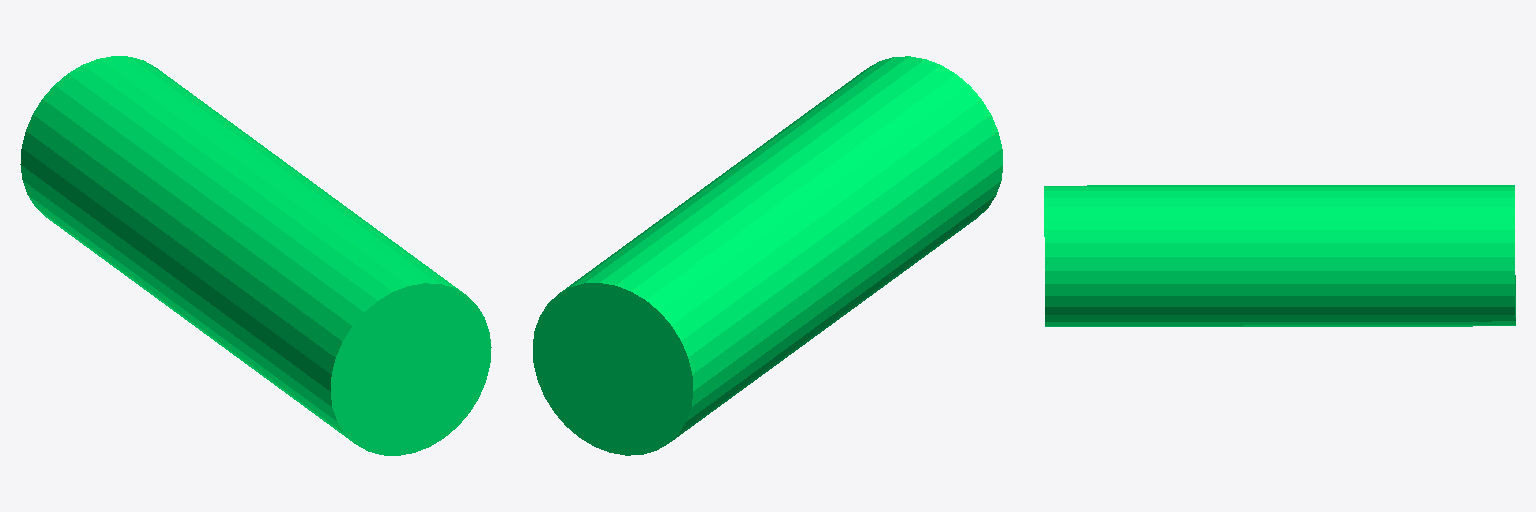
The robot description file, URDF, robot "ur5_with_torch":
<?xml version="1.0" ?>

<robot name="ur5_with_torch" xmlns:xacro="http://ros.org/wiki/xacro">

  <link name="base_link">
    <visual>
      <geometry>
        <mesh filename="../meshes/visual/base.obj"/>
      </geometry>
      <material name="Black">
        <color rgba="0.0 0.0 0 1.0"/>
      </material>
    </visual> 
    <collision>
      <geometry>
        <mesh filename="../meshes/collision/base.stl"/>
      </geometry>
    </collision>
    <inertial>
      <mass value="0.0"/>
      <origin rpy="0 0 0" xyz="0.0 0.0 0.0"/>
      <inertia ixx="0.00443333156" ixy="0.0" ixz="0.0" iyy="0.00443333156" iyz="0.0" izz="0.0072"/>
    </inertial>
  </link>

  <joint name="shoulder_pan_joint" type="revolute">
    <parent link="base_link"/>
    <child link="shoulder_link"/>
    <origin rpy="0.0 0.0 3.14" xyz="0.0 0.0 0.089159"/>
    <axis xyz="0 0 1"/>
    <limit effort="300.0" lower="-6.28318530718" upper="6.28318530718" velocity="10"/>
    <dynamics damping="0.5" friction="0.0"/>
  </joint>
  <link name="shoulder_link">
    <visual>
      <geometry>
        <mesh filename="../meshes/visual/shoulder.obj"/>
      </geometry>
      <material name="Snow">
        <color rgba="1.0 0.98039 0.98039 1.0"/>
      </material>
    </visual>
    <collision>
      <geometry>
        <mesh filename="../meshes/collision/shoulder.stl"/>
      </geometry>
    </collision>
    <inertial>
      <mass value="3.7"/>
      <origin rpy="0 0 0" xyz="0.0 0.0 0.5"/>
      <inertia ixx="0.010267495893" ixy="0.0" ixz="0.0" iyy="0.010267495893" iyz="0.0" izz="0.00666"/>
    </inertial>
  </link>
  <joint name="shoulder_lift_joint" type="revolute">
    <parent link="shoulder_link"/>
    <child link="upper_arm_link"/>
    <origin rpy="0.0 1.6 0.0" xyz="0.0 0.13585 0.0"/>
    <axis xyz="0 1 0"/>
    <limit effort="300.0" lower="-6.28318530718" upper="6.28318530718" velocity="10"/>
    <dynamics damping="0.5" friction="0.0"/>
  </joint>
  <link name="upper_arm_link">
    <visual>
      <geometry>
        <mesh filename="../meshes/visual/upperarm.obj"/>
      </geometry>
      <material name="Black">
        <color rgba="0.0 0.0 0 1.0"/>
      </material>
    </visual>
    <collision>
      <geometry>
        <mesh filename="../meshes/collision/upperarm.stl"/>
      </geometry>
    </collision>
    <inertial>
      <mass value="8.393"/>
      <origin rpy="0 0 0" xyz="0.0 0.0 0.28"/>
      <inertia ixx="0.22689067591" ixy="0.0" ixz="0.0" iyy="0.22689067591" iyz="0.0" izz="0.0151074"/>
    </inertial>
  </link>
  <joint name="elbow_joint" type="revolute">
    <parent link="upper_arm_link"/>
    <child link="forearm_link"/>
    <origin rpy="0.0 0.0 0.0" xyz="0.0 -0.1197 0.425"/>
    <axis xyz="0 1 0"/>
    <limit effort="300.0" lower="-6.28318530718" upper="6.28318530718" velocity="10"/>
    <dynamics damping="0.5" friction="0.0"/>
  </joint>
  <link name="forearm_link">
    <visual>
      <geometry>
        <mesh filename="../meshes/visual/forearm.obj"/>
      </geometry>
      <material name="Snow">
        <color rgba="1.0 0.98039 0.98039 1.0"/>
      </material>
    </visual>
    <collision>
      <geometry>
        <mesh filename="../meshes/collision/forearm.stl"/>
      </geometry>
    </collision>
    <inertial>
      <mass value="2.275"/>
      <origin rpy="0 0 0" xyz="0.0 0.0 0.25"/>
      <inertia ixx="0.049443313556" ixy="0.0" ixz="0.0" iyy="0.049443313556" iyz="0.0" izz="0.004095"/>
    </inertial>
  </link>
  <joint name="wrist_1_joint" type="revolute">
    <parent link="forearm_link"/>
    <child link="wrist_1_link"/>
    <origin rpy="0.0 1.57079632679 0.0" xyz="0.0 0.0 0.39225"/>
    <axis xyz="0 1 0"/>
    <limit effort="300.0" lower="-6.28318530718" upper="6.28318530718" velocity="10"/>
    <dynamics damping="0.5" friction="0.0"/>
  </joint>
  <link name="wrist_1_link">
    <visual>

      <geometry>
        <mesh filename="../meshes/visual/wrist1.obj"/>
      </geometry>
      <material name="Black">
        <color rgba="0.0 0.0 0 1.0"/>
      </material>
    </visual>
    <collision>
      <geometry>
        <mesh filename="../meshes/collision/wrist1.stl"/>
      </geometry>
    </collision>
    <inertial>
      <mass value="1.219"/>
      <origin rpy="0 0 0" xyz="0.0 0.0 0.0"/>
      <inertia ixx="0.111172755531" ixy="0.0" ixz="0.0" iyy="0.111172755531" iyz="0.0" izz="0.21942"/>
    </inertial>
  </link>
  <joint name="wrist_2_joint" type="revolute">
    <parent link="wrist_1_link"/>
    <child link="wrist_2_link"/>
    <origin rpy="0.0 0.0 0.0" xyz="0.0 0.093 0.0"/>
    <axis xyz="0 0 1"/>
    <limit effort="300.0" lower="-6.28318530718" upper="6.28318530718" velocity="10"/>
    <dynamics damping="0.5" friction="0.0"/>
  </joint>
  <link name="wrist_2_link">
    <visual>
      <geometry>
        <mesh filename="../meshes/visual/wrist2.obj"/>
      </geometry>
      <material name="Snow">
        <color rgba="1.0 0.98039 0.98039 1.0"/>
      </material>
    </visual>
    <collision>
      <geometry>
        <mesh filename="../meshes/collision/wrist2.stl"/>
      </geometry>
    </collision>
    <inertial>
      <mass value="1.219"/>
      <origin rpy="0 0 0" xyz="0.0 0.0 0.0"/>
      <inertia ixx="0.111172755531" ixy="0.0" ixz="0.0" iyy="0.111172755531" iyz="0.0" izz="0.21942"/>
    </inertial>
  </link>
  <joint name="wrist_3_joint" type="revolute">
    <parent link="wrist_2_link"/>
    <child link="wrist_3_link"/>
    <origin rpy="0.0 0.0 0.0" xyz="0.0 0.0 0.09465"/>
    <axis xyz="0 1 0"/>
    <limit effort="300.0" lower="-6.28318530718" upper="6.28318530718" velocity="10"/>
    <dynamics damping="0.5" friction="0.0"/>
  </joint>
  <link name="wrist_3_link">
    <visual>
      <geometry>
        <mesh filename="../meshes/visual/wrist3.obj"/>
      </geometry>
      <material name="Black">
        <color rgba="0.0 0.0 0 1.0"/>
      </material>
    </visual>
    <collision>
      <geometry>
        <mesh filename="../meshes/collision/wrist3.stl"/>
      </geometry>
    </collision>
    <inertial>
      <mass value="0.1879"/>
      <origin rpy="0 0 0" xyz="0.0 0.0 0.0"/>
      <inertia ixx="0.0171364731454" ixy="0.0" ixz="0.0" iyy="0.0171364731454" iyz="0.0" izz="0.033822"/>
    </inertial>
  </link>
  
  <joint name="ee_fixed_joint" type="fixed">
    <parent link="wrist_3_link"/>
    <child link="ee_link"/>
    <origin rpy="1.57 0.0 3.14" xyz="0.0 0.13 0.0"/>
  </joint>
  
  <link name="ee_link">
    <visual>
      <geometry>
        <cylinder length="0.04" radius="0.006"/>
      </geometry>
      <origin rpy="0 0 0" xyz="0.0 0.0 -0.03"/>
      <material name="Green">
        <color rgba="0.0 0.98039 0.48039 1.0"/>
      </material>
    </visual>
    <collision>
      <geometry>
        <cylinder length="0.03" radius="0.006"/>
      </geometry>
      <origin rpy="0 0 0" xyz="0.0 0.0 -0.03"/>
    </collision>
    <inertial>
      <mass value="0.2"/>
      <origin rpy="0 0 0" xyz="0.0 0.0 0.0"/>
      <inertia ixx="0.00443333156" ixy="0.0" ixz="0.0" iyy="0.00443333156" iyz="0.0" izz="0.0072"/>
    </inertial>
  </link>


  <!-- connect arm to world -->
  <link name="world"/>
  <joint name="world_joint" type="fixed">
    <parent link="world"/>
    <child link="base_link"/>
    <origin rpy="0.0 0.0 0" xyz="0.0 0.0 0.0"/>
  </joint>
</robot>

--- What the picture shows (computed from the rendered views, not written in the file) ---
3 views of the same robot in one strip: view 1: azimuth 30°, elevation 25°; view 2: azimuth 150°, elevation 25°; view 3: azimuth 270°, elevation 25° (orthographic).
Robot: ur5_with_torch — 9 links, 8 joints (6 revolute, 2 fixed); root link world; default pose: all joints at 0.
Visible links, largest first — view 1: ee_link; view 2: ee_link; view 3: ee_link.
Boxes of the visible links, x1=… form: ee_link: x1=20, y1=56, x2=491, y2=455; ee_link: x1=533, y1=56, x2=1002, y2=455; ee_link: x1=1044, y1=185, x2=1515, y2=326.
Bounding box of the posed robot: 0.012 × 0.04 × 0.012 m (x, y, z).
0 mesh visuals loaded from 7 distinct referenced files (none loaded); not drawn: 7 (reference not matched to a file when rendering).